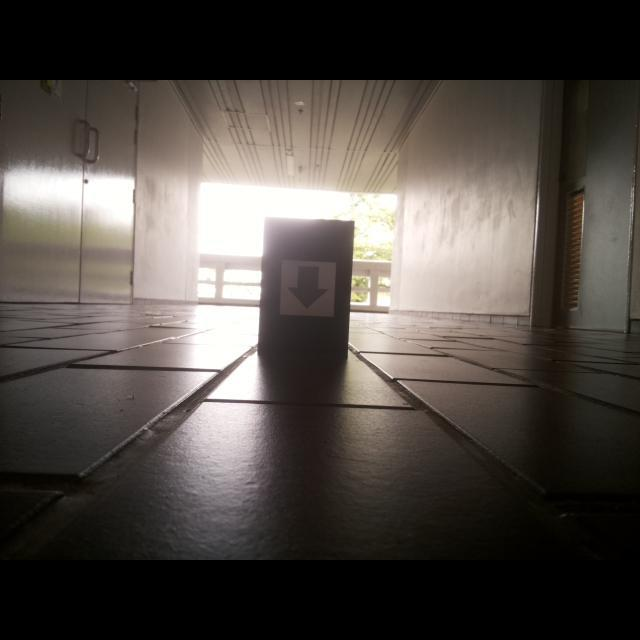DOWN: (285, 266, 330, 310)
